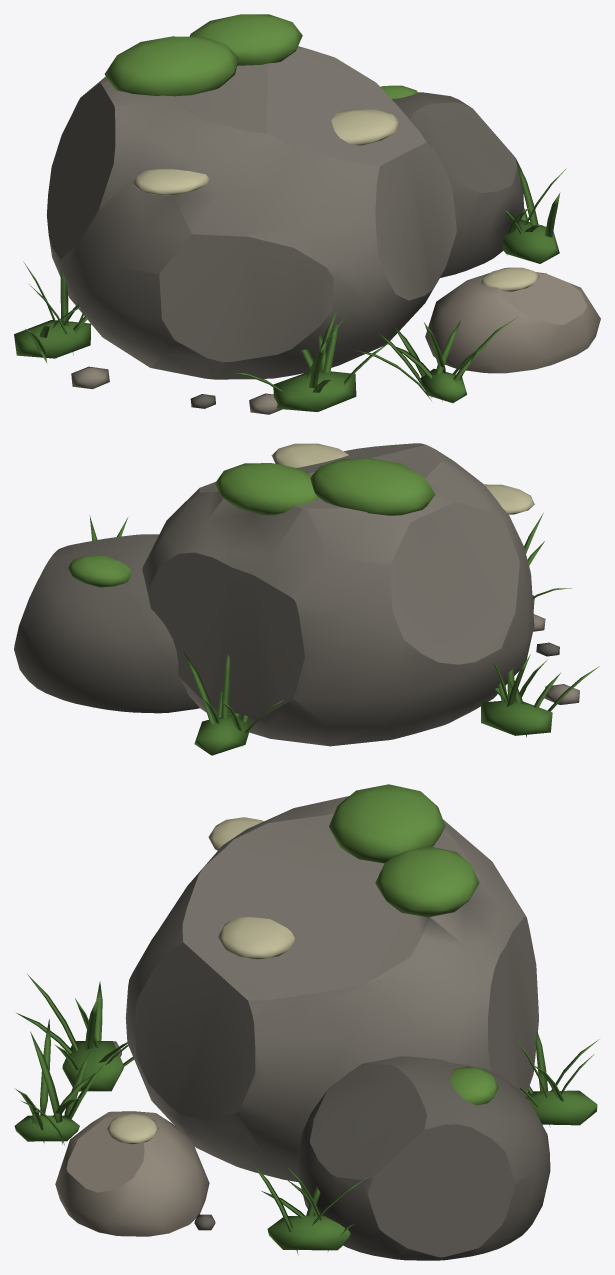
Rendered from boulder.glb.
3 views of the same model, one above another, from view 1: azimuth 30°, elevation 25°; view 2: azimuth 150°, elevation 25°; view 3: azimuth 270°, elevation 25° (orthographic). The views are drawn at different scales.
Parts seen in each view (by area): view 1: boulder; view 2: boulder; view 3: boulder.
Part boxes in pixels (box(x1,y1,x2,y2)): boulder: box(14, 14, 600, 414); boulder: box(14, 443, 599, 755); boulder: box(14, 784, 599, 1260).
Size of the model in its own units: 1.03 by 0.471 by 0.8941.
